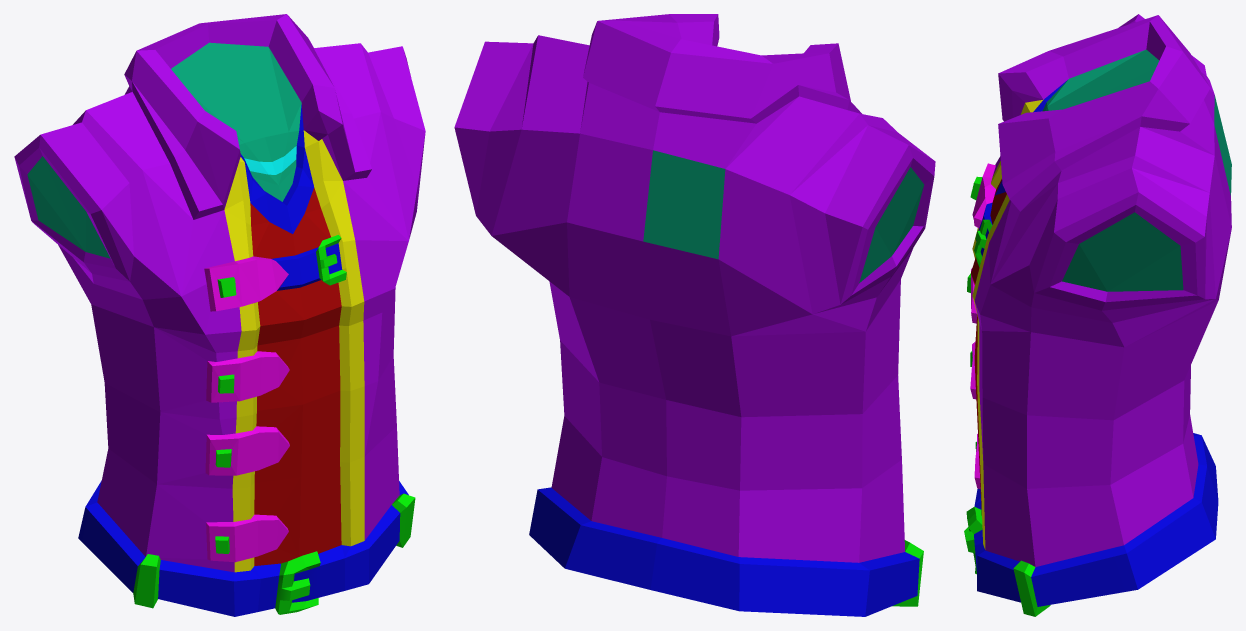
Rendered from Chr_Torso_Male_Static_03.fbx.
3 views of the same model, side by side, from view 1: azimuth 30°, elevation 25°; view 2: azimuth 150°, elevation 25°; view 3: azimuth 270°, elevation 25° (orthographic). The views are drawn at different scales.
Visible parts, largest first — view 1: Chr_Torso_Male_03; view 2: Chr_Torso_Male_03; view 3: Chr_Torso_Male_03.
Boxes of the visible parts, x1,y1,x2,y2 form: Chr_Torso_Male_03: [14, 14, 425, 616]; Chr_Torso_Male_03: [454, 14, 935, 616]; Chr_Torso_Male_03: [964, 14, 1231, 616].
Bounding box in the file's own units: 50.2 × 68.26 × 31.46.
